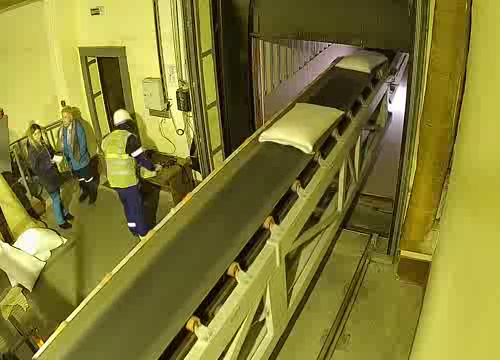bag: (256, 101, 345, 156), (335, 50, 390, 74)
